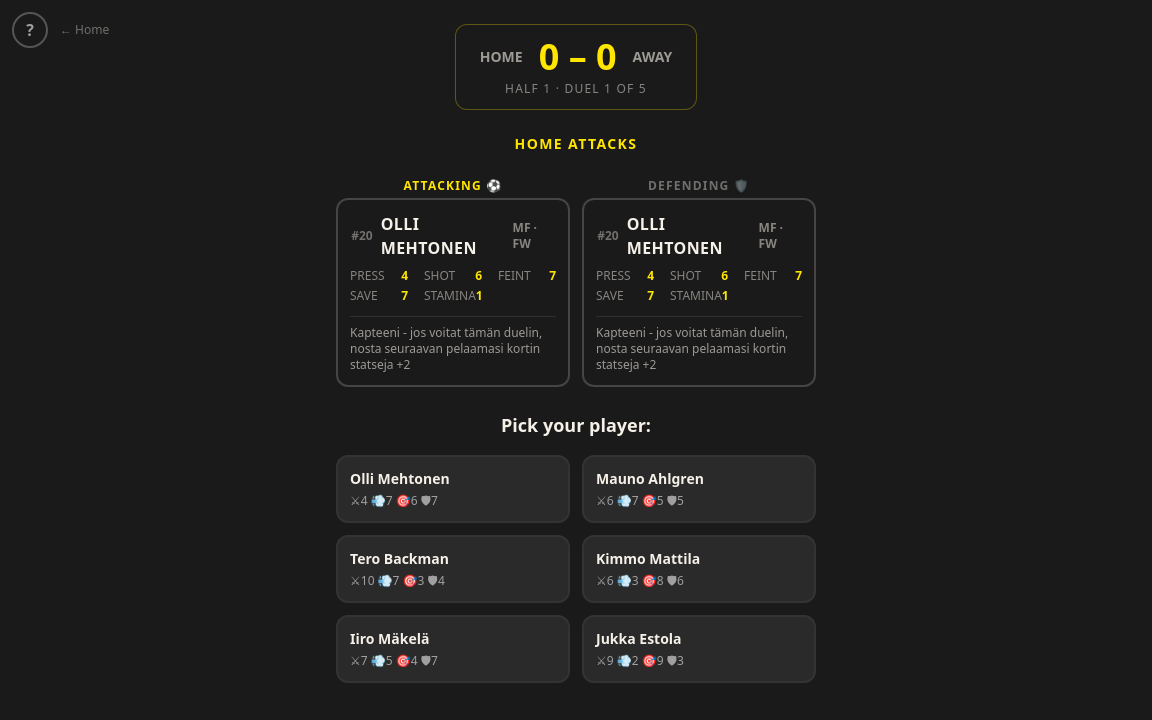
Test: DuelScreen — AI mode UI › does NOT show cover-continue-btn after human picks char + card
Click the button with test id "char-btn-" at x=453, y=489, box [336, 455, 570, 523]
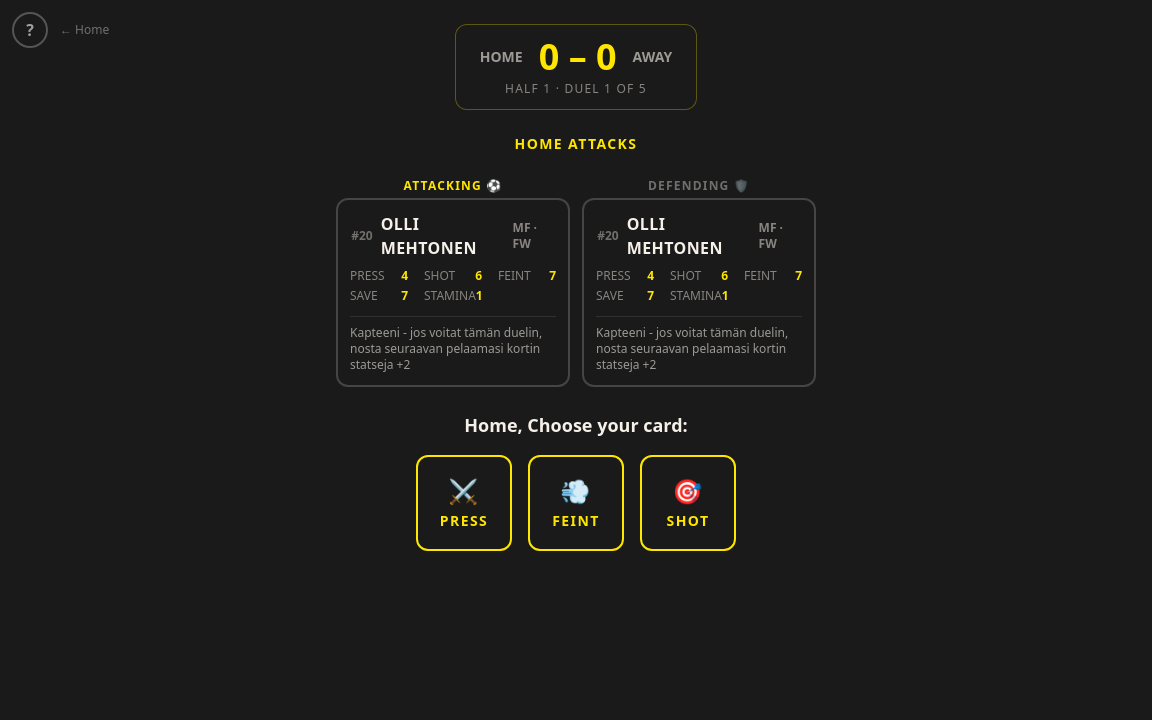
Click the button with test id "card-btn-press" at x=464, y=503, box [416, 455, 512, 551]
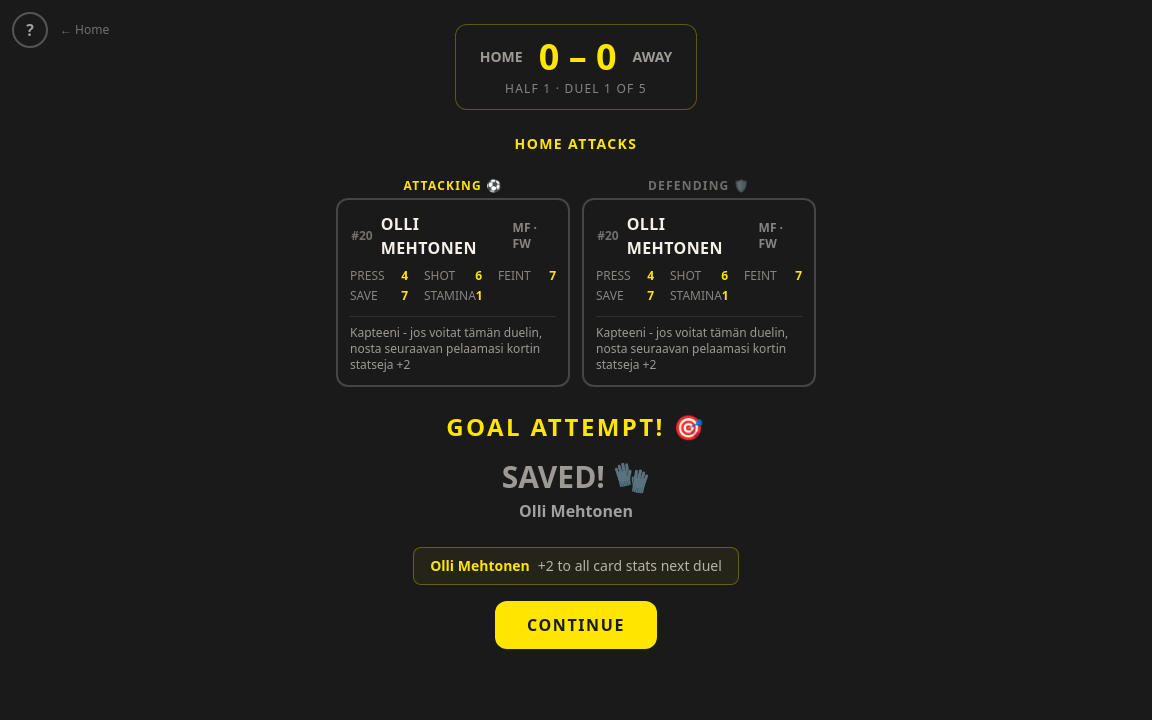
Expected: the element with test id "duel-result-panel" is shown, [413, 411, 739, 649]
